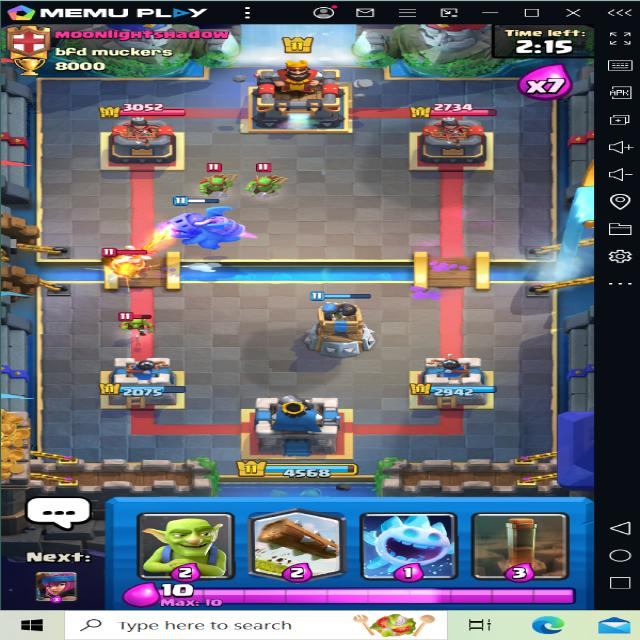Goblin: (116, 308, 156, 335)
Monk: (101, 241, 160, 281)
Speargoblin: (193, 162, 232, 195), (246, 163, 286, 195)
